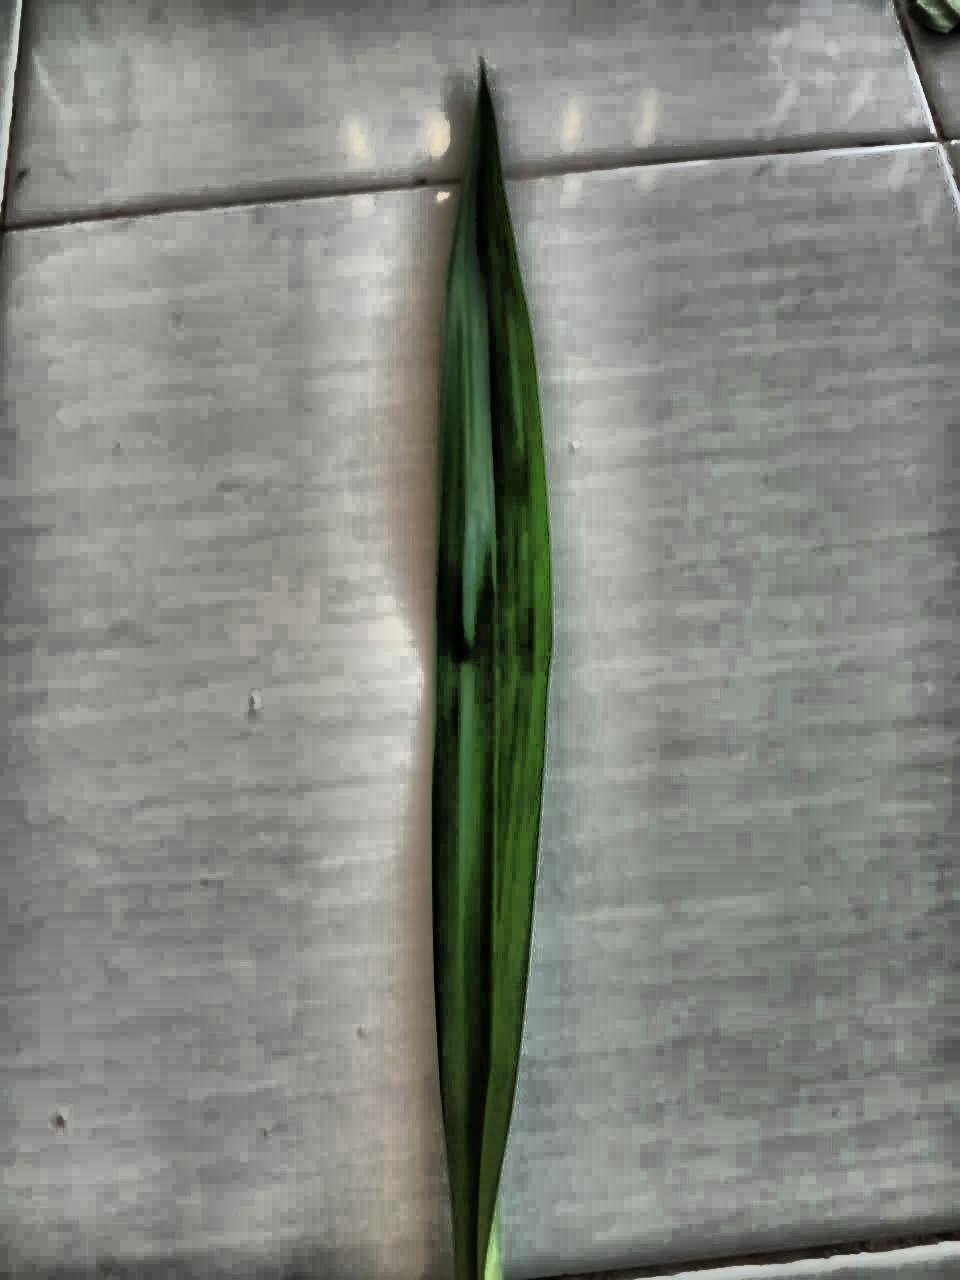daun pandan: (432, 68, 552, 1279)
